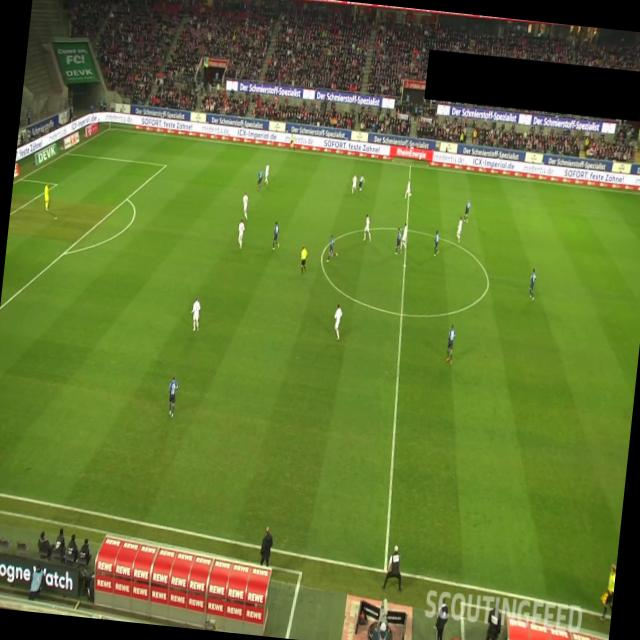ball: (358, 186, 362, 192)
goalkeeper: (42, 180, 52, 212)
player: (166, 372, 180, 418), (443, 322, 457, 367), (188, 296, 202, 332), (324, 234, 340, 265), (331, 302, 343, 340), (270, 220, 282, 250), (528, 267, 538, 300), (398, 222, 408, 254), (362, 213, 373, 242), (236, 218, 246, 248), (240, 190, 250, 220), (454, 215, 463, 244), (355, 172, 365, 195), (394, 226, 402, 254), (403, 178, 413, 200), (432, 229, 440, 256), (463, 196, 471, 222), (256, 168, 264, 191), (350, 174, 358, 196), (263, 163, 270, 186)
referee: (598, 561, 616, 622), (298, 244, 310, 277), (288, 132, 297, 151)
